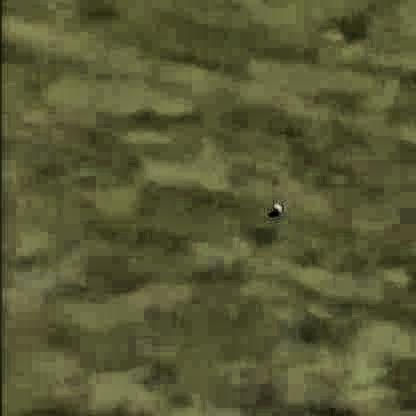golfball: (268, 200, 281, 213)
